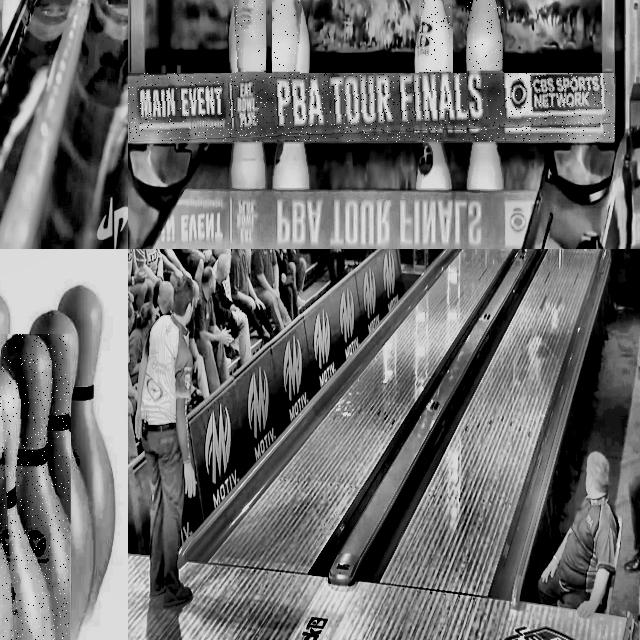bowling-pins: (31, 309, 95, 640), (1, 335, 69, 640), (60, 285, 116, 618), (467, 0, 504, 72), (419, 0, 450, 73), (235, 0, 266, 73), (272, 0, 300, 74), (0, 294, 11, 361)
sweep board: (128, 73, 615, 142)
